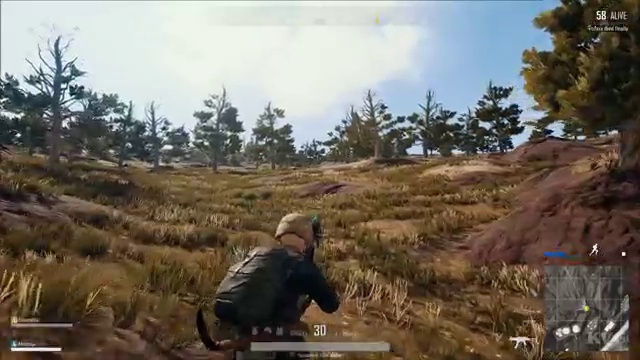Player: (183, 202, 370, 320)
